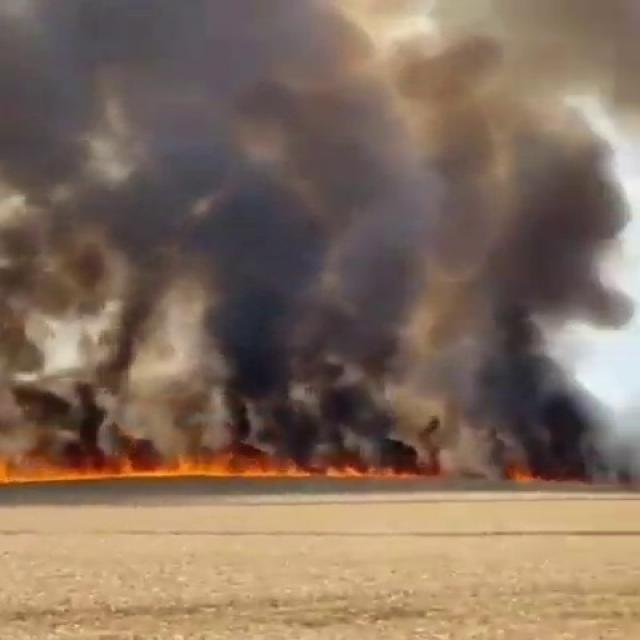Fire: (3, 449, 418, 486)
Smoke: (0, 0, 589, 480)
